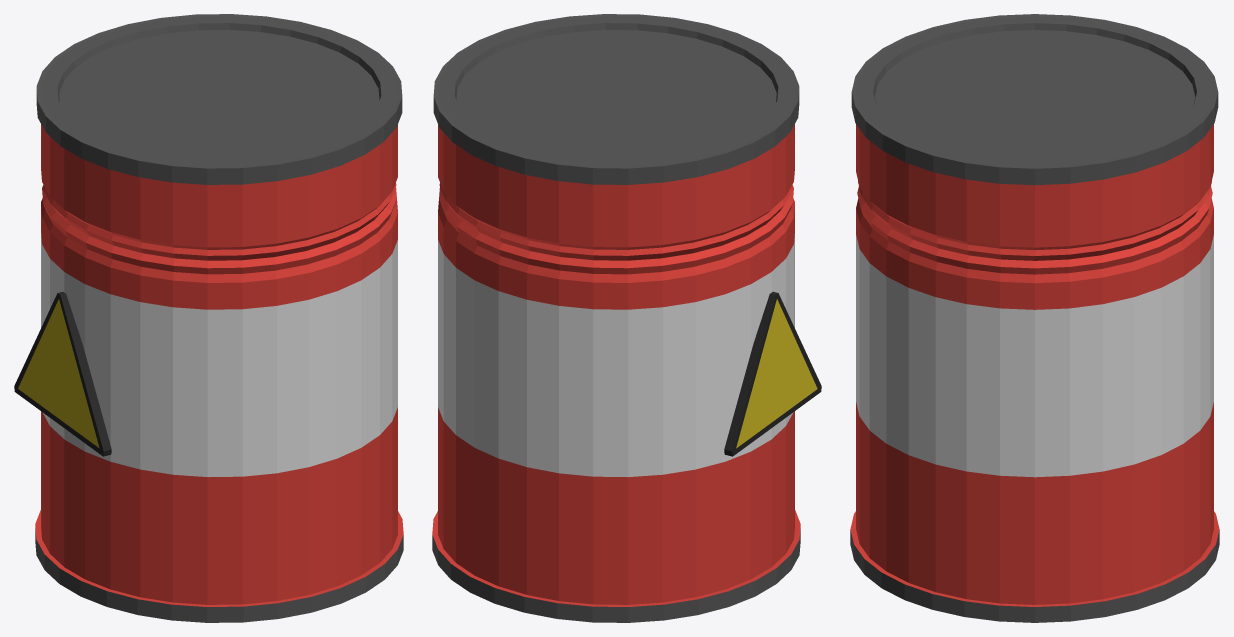
File: barrel.fbx
3 renders of one model, left to right at view 1: azimuth 30°, elevation 25°; view 2: azimuth 150°, elevation 25°; view 3: azimuth 270°, elevation 25°, orthographic.
Parts seen in each view (by area): view 1: Cylinder; view 2: Cylinder; view 3: Cylinder.
Part boxes in pixels (x1,y1,x2,y2): Cylinder: [14, 14, 403, 622]; Cylinder: [432, 14, 821, 622]; Cylinder: [850, 14, 1219, 622].
Bounding box in the file's own units: 96.79 × 131 × 96.62.
